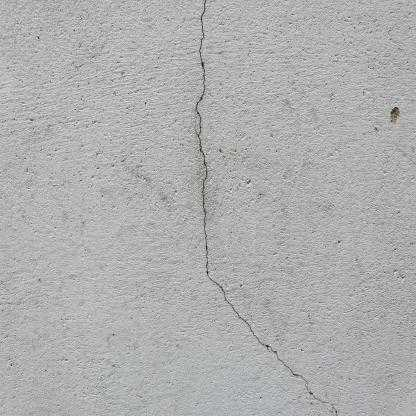crack: (195, 0, 339, 415)
